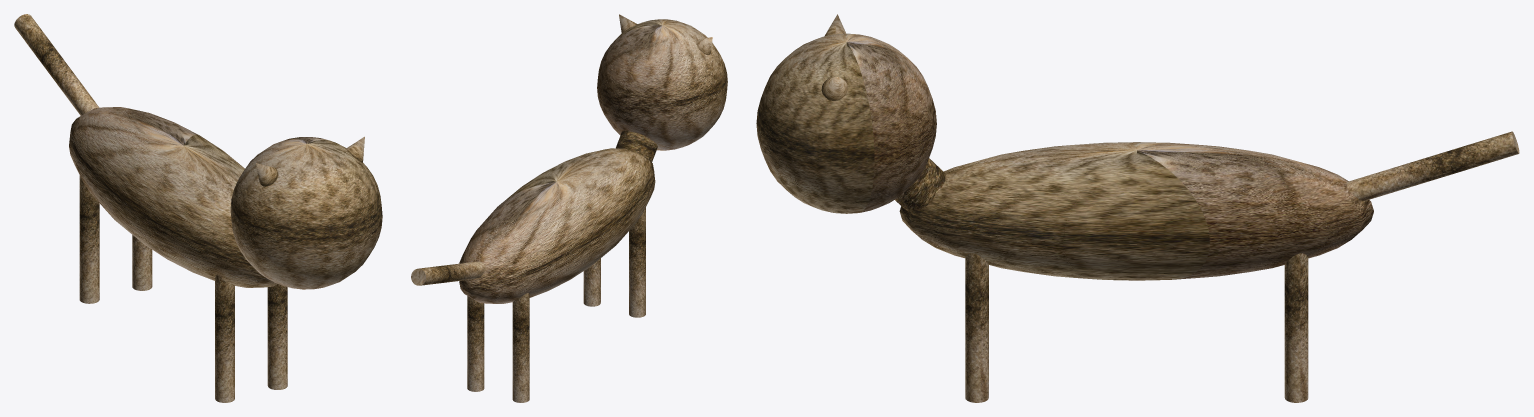
File: Kitty.dae
The picture shows the model from 3 angles, left to right: view 1: azimuth 30°, elevation 25°; view 2: azimuth 150°, elevation 25°; view 3: azimuth 270°, elevation 25°; orthographic projection. The views are drawn at different scales.
Parts seen in each view (by area): view 1: torso, noggin, leg_front_right, tail, leg_rear_right, leg_front_left, leg_rear_left, ear_left; view 2: torso, noggin, leg_rear_right, leg_front_right, leg_rear_left, tail, neck, leg_front_left; view 3: torso, noggin, tail, leg_rear_left, leg_front_left, neck.
Part boxes in pixels (x1,y1,x2,y2): torso: [69, 107, 277, 287]; noggin: [230, 137, 382, 289]; leg_front_right: [215, 275, 234, 402]; tail: [14, 14, 98, 115]; leg_rear_right: [79, 175, 99, 303]; leg_front_left: [267, 284, 287, 389]; leg_rear_left: [132, 235, 152, 290]; ear_left: [256, 163, 278, 186]; torso: [459, 148, 655, 303]; noggin: [597, 19, 727, 150]; leg_rear_right: [512, 293, 529, 402]; leg_front_right: [629, 207, 645, 317]; leg_rear_left: [467, 296, 484, 391]; tail: [411, 261, 485, 285]; neck: [615, 130, 657, 162]; leg_front_left: [583, 258, 600, 306]; torso: [899, 142, 1373, 280]; noggin: [756, 33, 936, 213]; tail: [1346, 131, 1519, 200]; leg_rear_left: [1284, 253, 1308, 402]; leg_front_left: [965, 253, 988, 402]; neck: [895, 158, 945, 211].
Size of the model in its own units: 2 by 4.17 by 8.46.
1 material, 1 textured.
